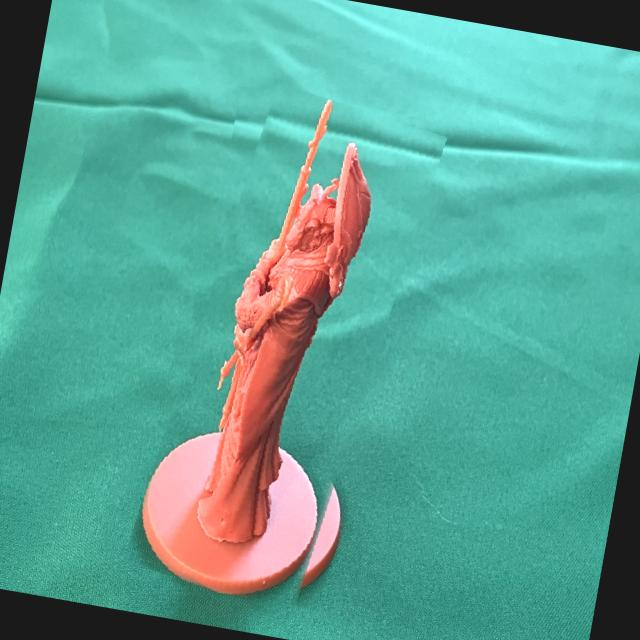amon: (136, 78, 434, 620)
